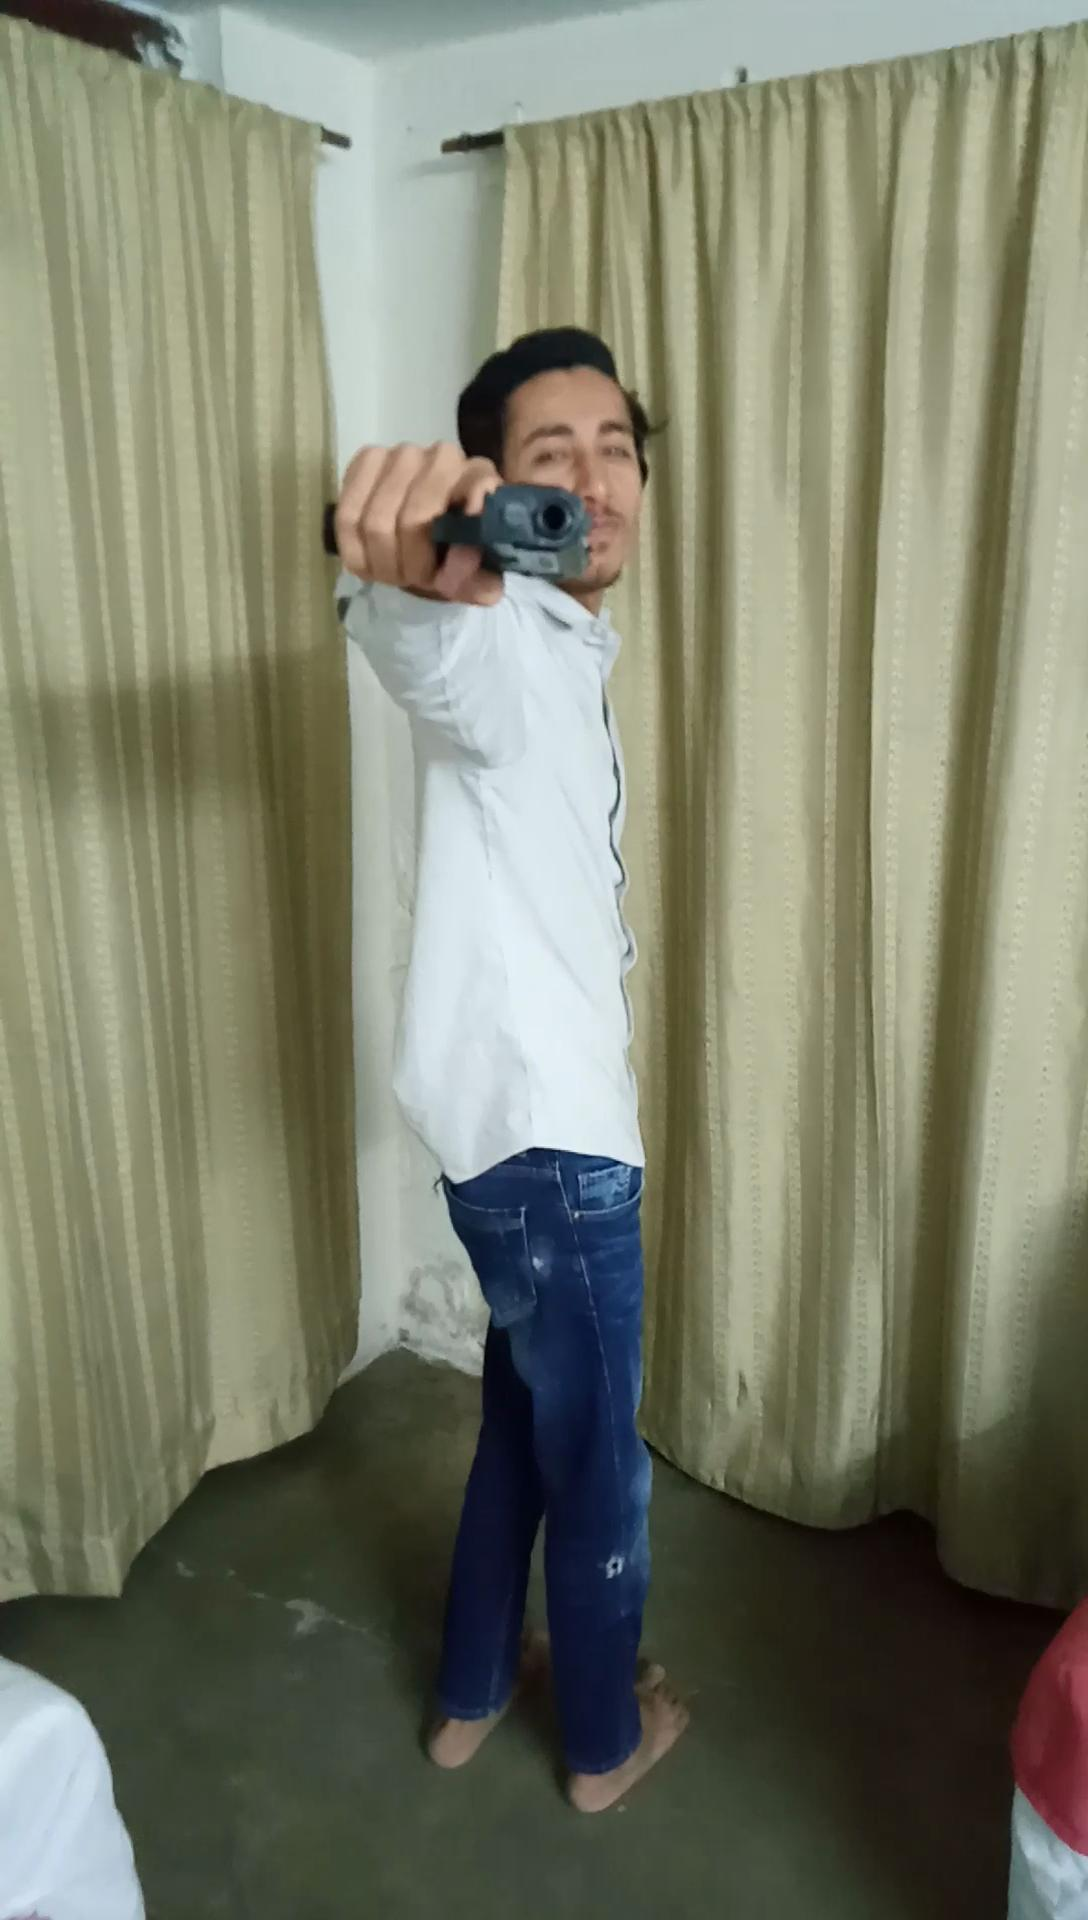criminal: (309, 316, 702, 1829)
weapon: (313, 456, 607, 588)
